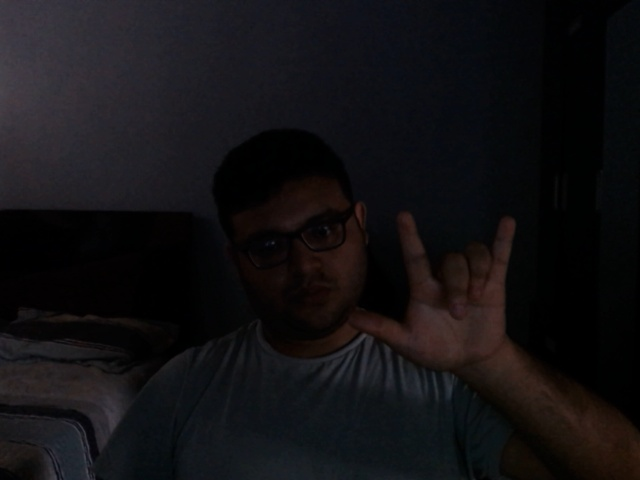I love you: (347, 204, 517, 374)
